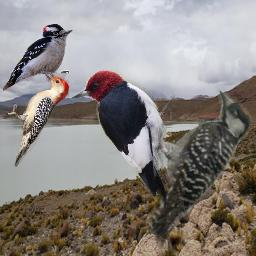Woodpecker: (148, 83, 252, 249), (65, 68, 175, 206), (4, 68, 70, 167), (3, 24, 73, 92)
